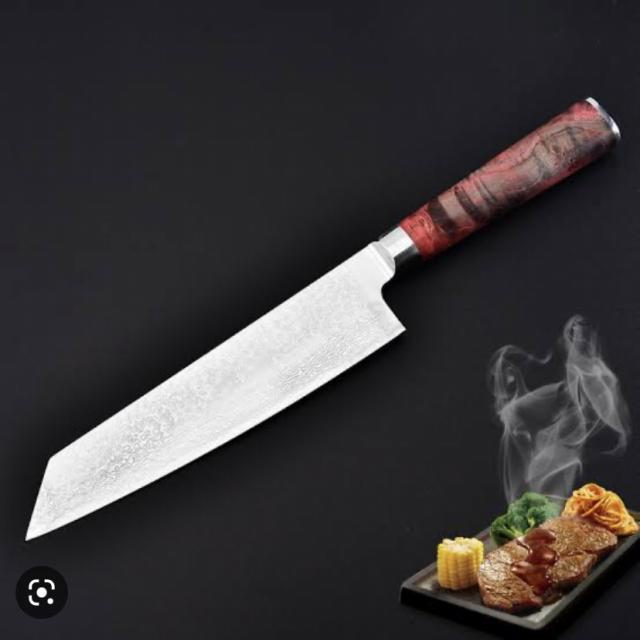Knife: (8, 78, 635, 561)
